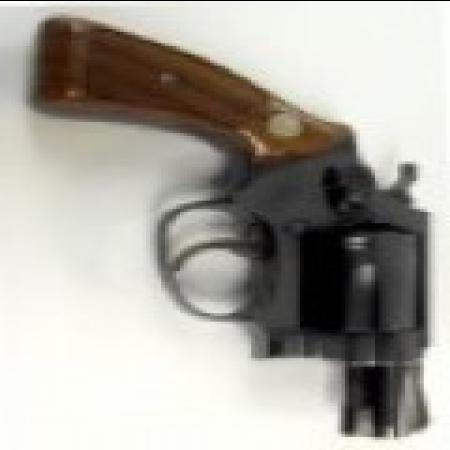Pistol: (41, 25, 439, 439)
